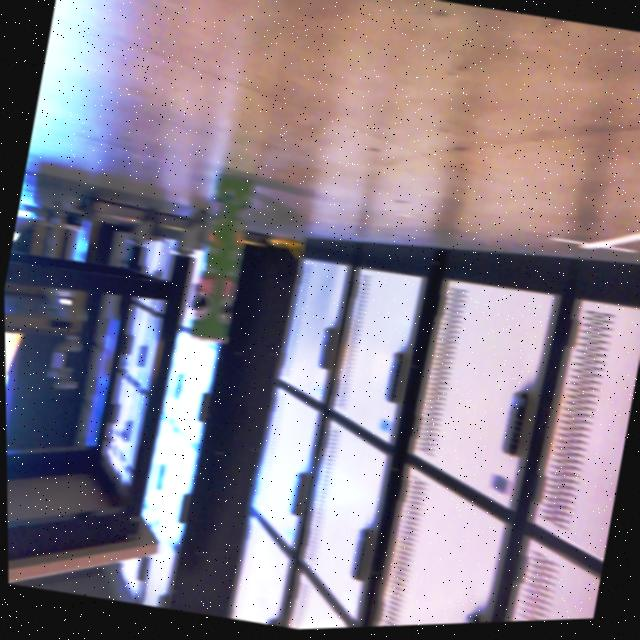greenpringles: (170, 148, 268, 368)
